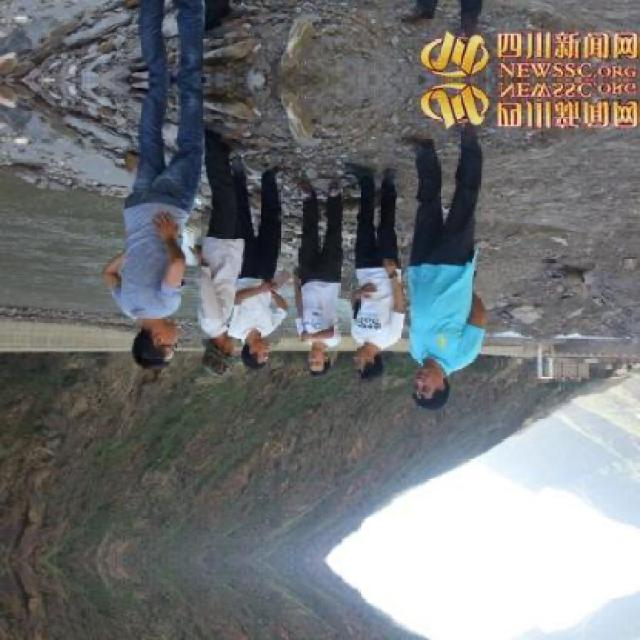sin casco: (132, 306, 210, 376), (185, 322, 279, 380), (339, 325, 399, 372), (402, 365, 447, 424), (308, 340, 338, 397), (235, 348, 271, 382)
